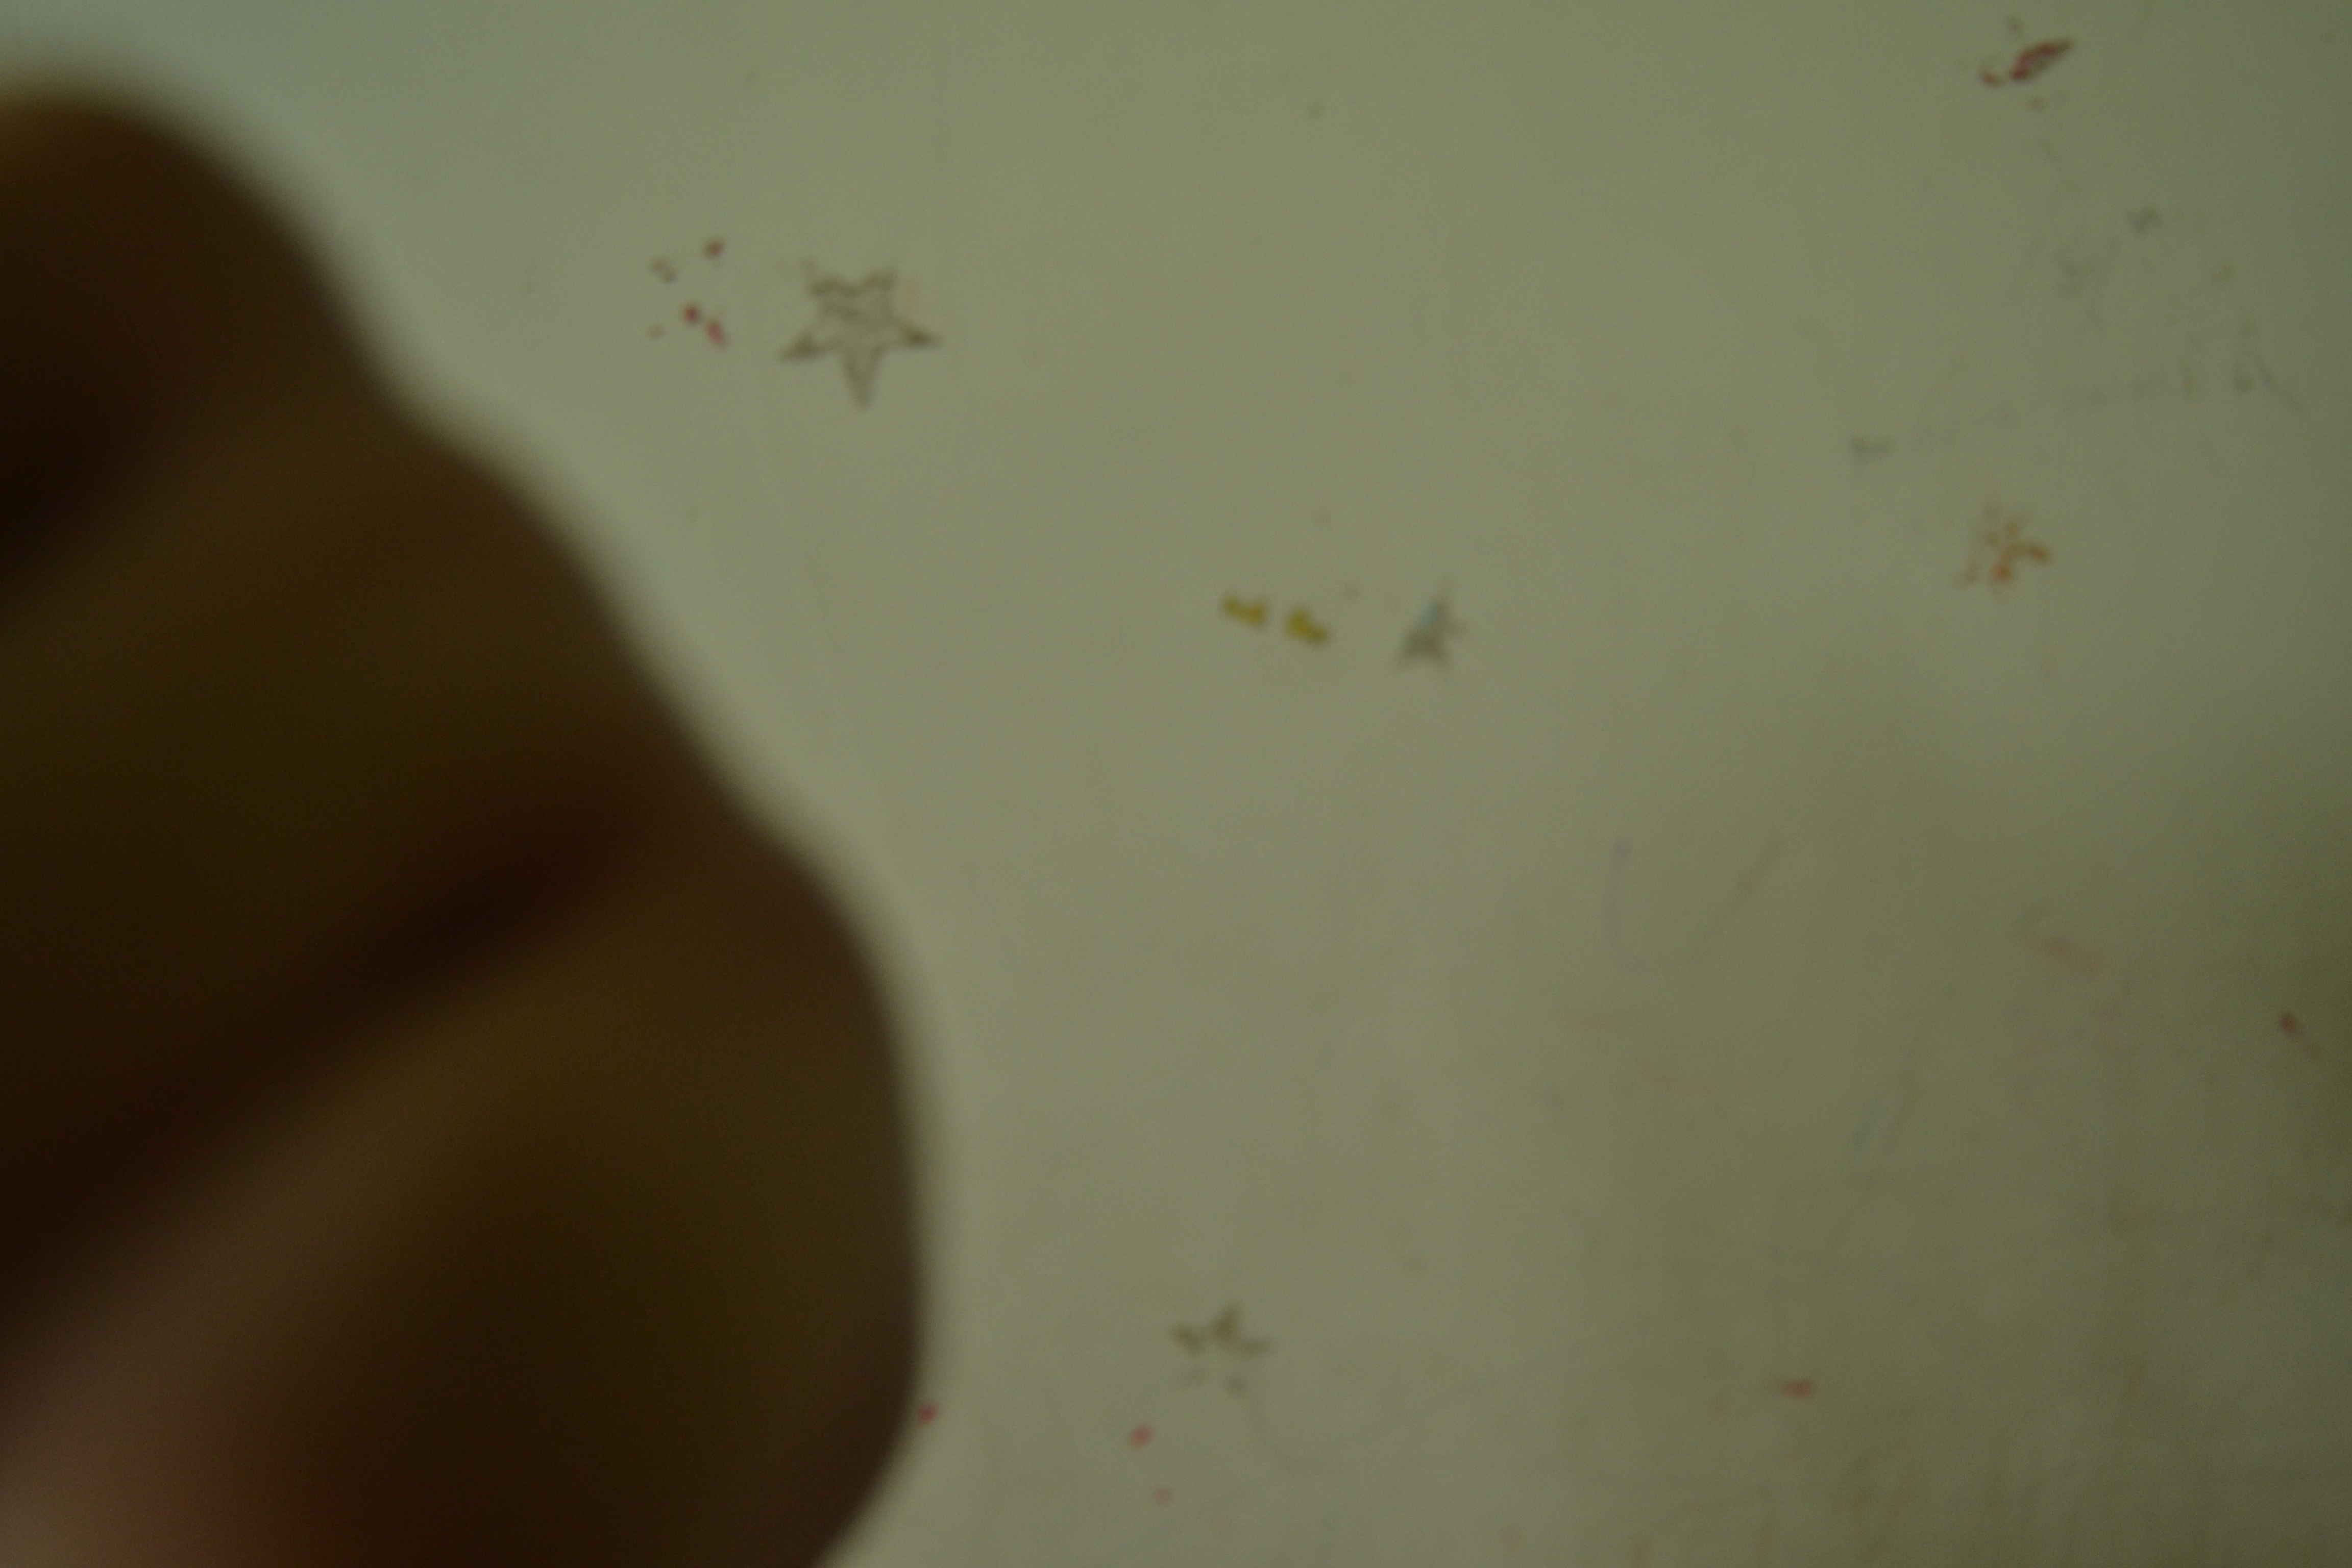click: (33, 66, 1244, 1568)
